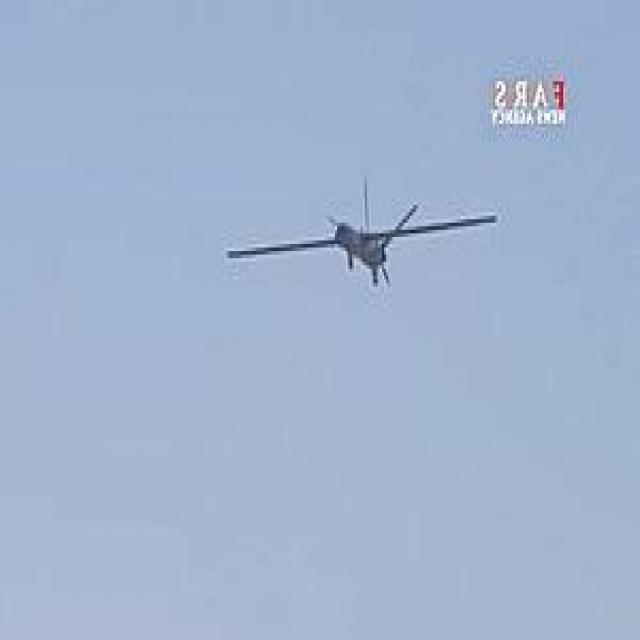UAV: (222, 192, 540, 288)
